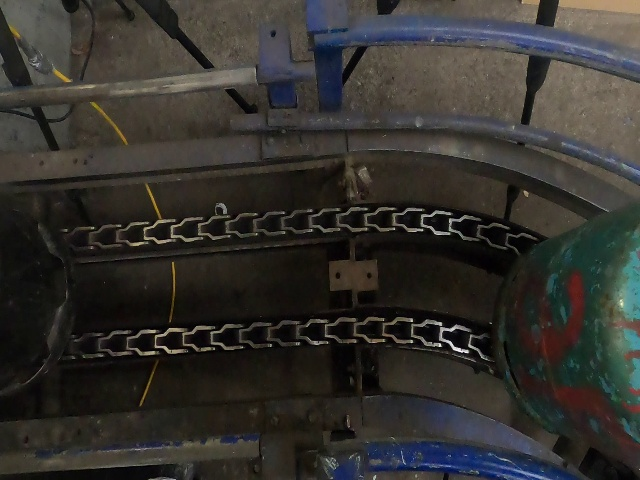gas_bottle: (16, 10, 640, 480)
